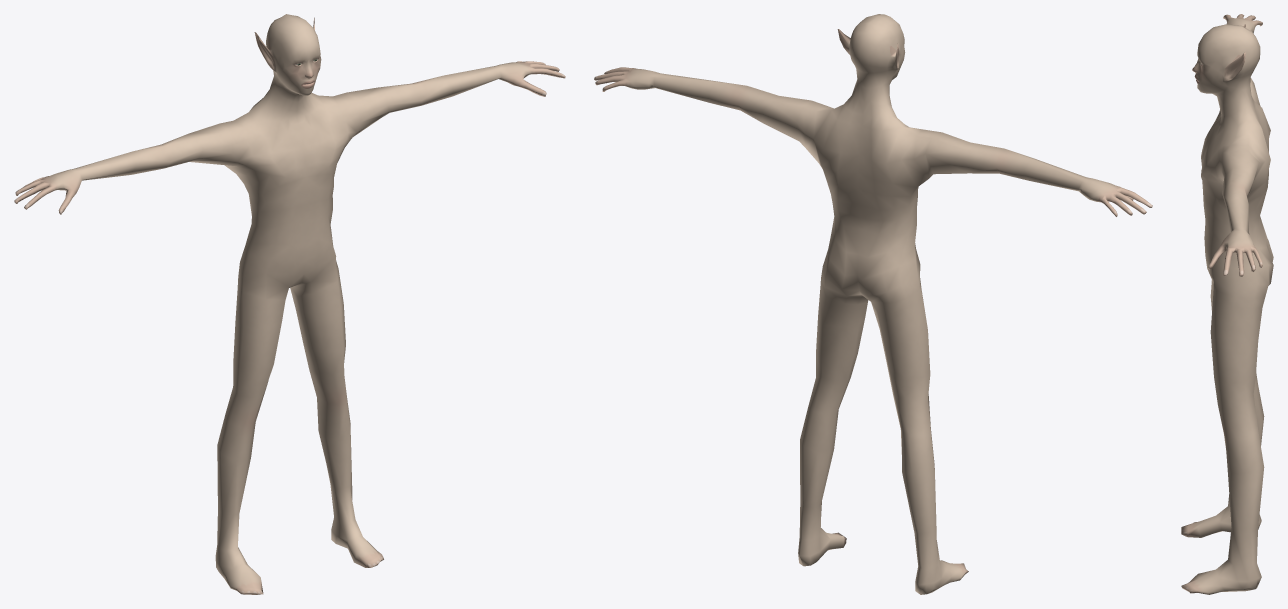
The model's file is pj_elfo_cuerpo.glb.
3 views of the same model, side by side, from view 1: azimuth 30°, elevation 25°; view 2: azimuth 150°, elevation 25°; view 3: azimuth 270°, elevation 25° (orthographic). The views are drawn at different scales.
Parts seen in each view (by area): view 1: PJ_Elfo_Torso, PJ_Elfo_Legs, PJ_Elfo_Arms, PJ_Elfo_Head, PJ_Elfo_Feet, PJ_Elfo_Hands; view 2: PJ_Elfo_Torso, PJ_Elfo_Legs, PJ_Elfo_Arms, PJ_Elfo_Head, PJ_Elfo_Hands, PJ_Elfo_Feet; view 3: PJ_Elfo_Legs, PJ_Elfo_Torso, PJ_Elfo_Head, PJ_Elfo_Feet, PJ_Elfo_Arms, PJ_Elfo_Hands.
Part boxes in pixels (left/top/right/bottom): PJ_Elfo_Torso: left=220, top=89, right=360, bottom=300; PJ_Elfo_Legs: left=217, top=270, right=355, bottom=550; PJ_Elfo_Arms: left=74, top=66, right=501, bottom=180; PJ_Elfo_Head: left=254, top=14, right=321, bottom=102; PJ_Elfo_Feet: left=215, top=517, right=383, bottom=594; PJ_Elfo_Hands: left=14, top=61, right=565, bottom=214; PJ_Elfo_Torso: left=796, top=93, right=941, bottom=312; PJ_Elfo_Legs: left=799, top=286, right=939, bottom=568; PJ_Elfo_Arms: left=654, top=73, right=1085, bottom=191; PJ_Elfo_Head: left=837, top=14, right=905, bottom=104; PJ_Elfo_Hands: left=594, top=67, right=1152, bottom=216; PJ_Elfo_Feet: left=798, top=528, right=968, bottom=594; PJ_Elfo_Legs: left=1210, top=280, right=1264, bottom=566; PJ_Elfo_Torso: left=1201, top=94, right=1273, bottom=308; PJ_Elfo_Head: left=1192, top=24, right=1260, bottom=110; PJ_Elfo_Feet: left=1181, top=506, right=1261, bottom=594; PJ_Elfo_Arms: left=1220, top=78, right=1258, bottom=234; PJ_Elfo_Hands: left=1208, top=14, right=1262, bottom=276.
Bounding box in the file's own units: 1.93 × 1.85 × 0.2892.
Materials: 2 (2 with a texture image).
